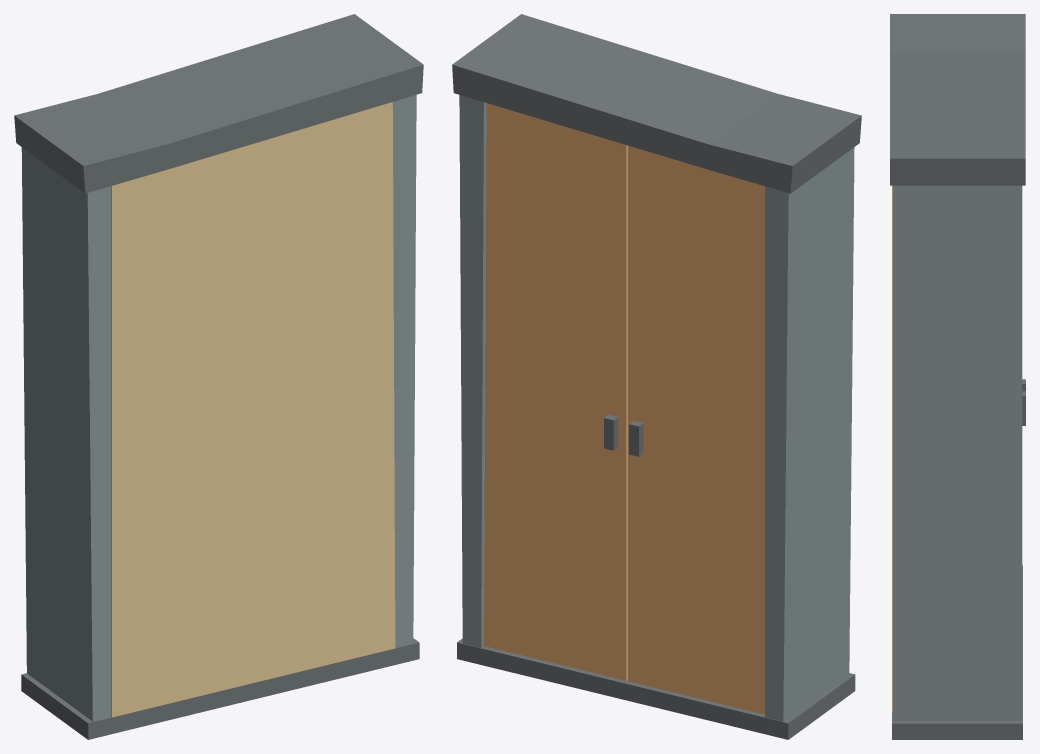
File: bedroom cupboard static.fbx
3 renders of one model, left to right at view 1: azimuth 30°, elevation 25°; view 2: azimuth 150°, elevation 25°; view 3: azimuth 270°, elevation 25°, orthographic. The views are drawn at different scales.
Visible parts, largest first — view 1: cupboard bedroom; view 2: cupboard bedroom, cupboard bedroom door R, cupboard bedroom door L; view 3: cupboard bedroom.
Part boxes in pixels (box(x1,y1,x2,y2)): cupboard bedroom: box(14, 14, 423, 739); cupboard bedroom: box(452, 14, 861, 739); cupboard bedroom door R: box(484, 103, 627, 680); cupboard bedroom door L: box(628, 145, 764, 714); cupboard bedroom: box(890, 14, 1025, 739).
Bounding box in the file's own units: 2 × 3.33 × 0.7043.
